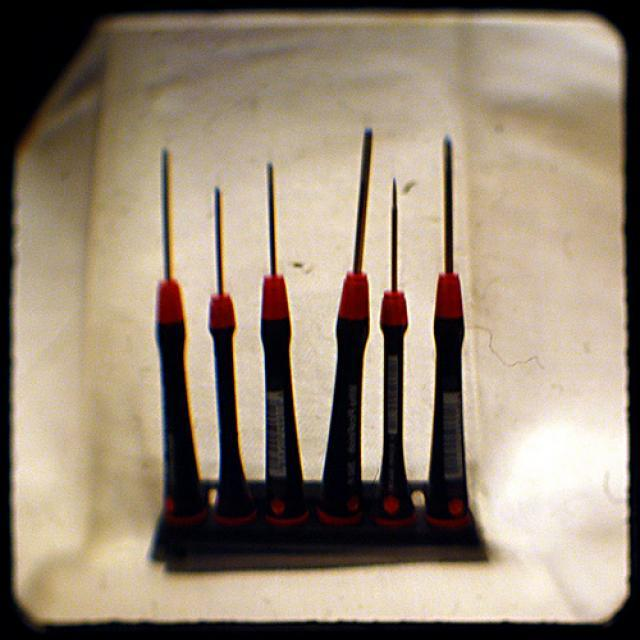screwdriver: (314, 120, 382, 534), (144, 141, 208, 528), (252, 150, 314, 530), (420, 130, 476, 536), (205, 188, 258, 528), (374, 169, 422, 531)
